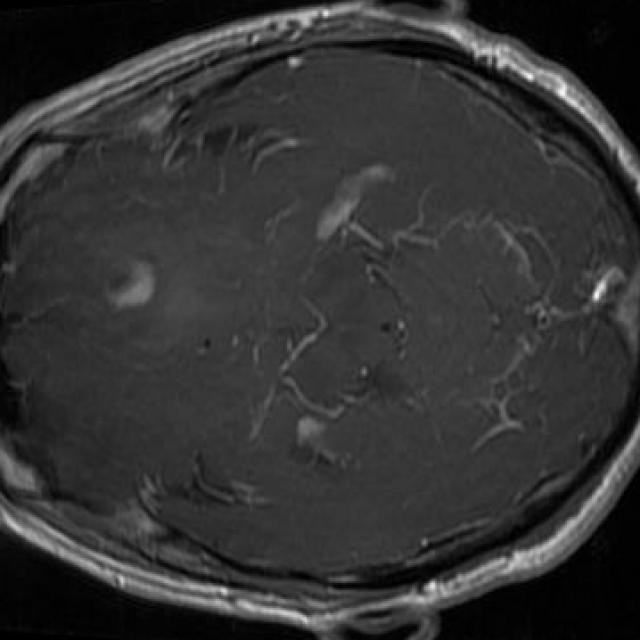glioma: (278, 164, 554, 442)
